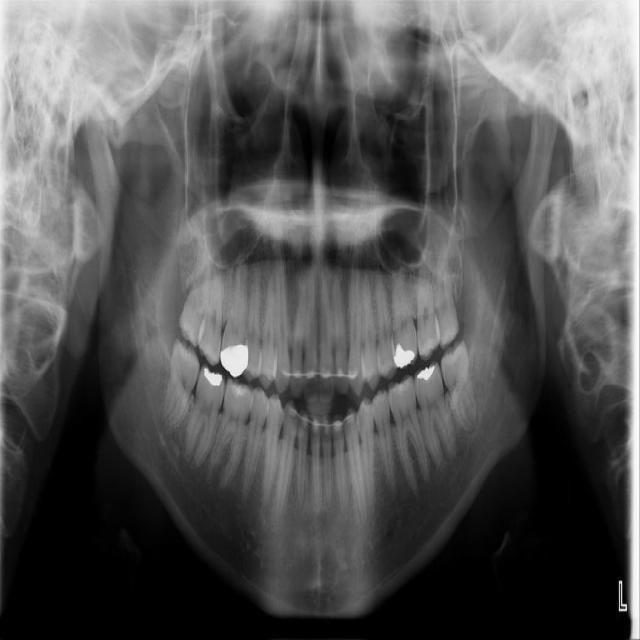Crown: (219, 342, 248, 377)
Filling: (392, 342, 415, 368), (226, 377, 251, 398), (415, 366, 437, 385), (203, 366, 223, 386)
Periapical lesion: (214, 467, 238, 494), (456, 427, 470, 455), (187, 456, 208, 474), (419, 467, 432, 486), (297, 493, 306, 512), (468, 419, 476, 435)
impacted tooth: (159, 338, 200, 430), (442, 340, 480, 428)
